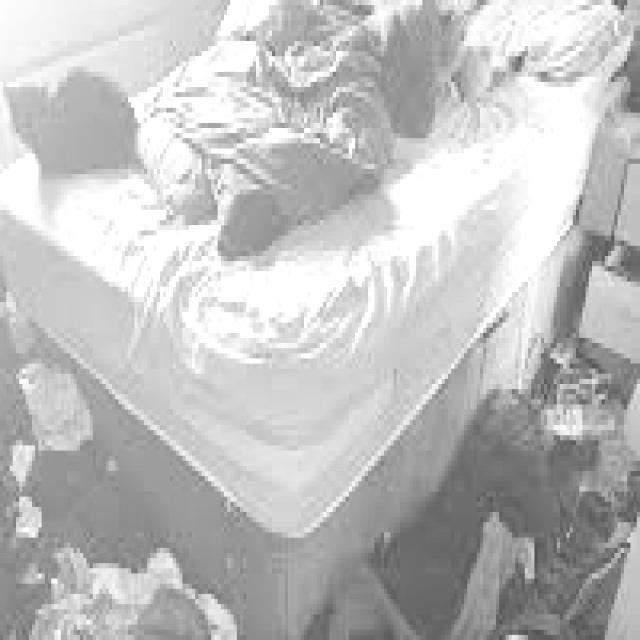bed: (0, 0, 619, 423)
